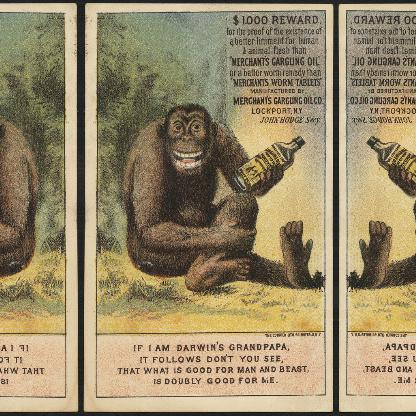Monkey: (121, 102, 311, 290), (360, 102, 415, 291), (0, 102, 40, 291)
